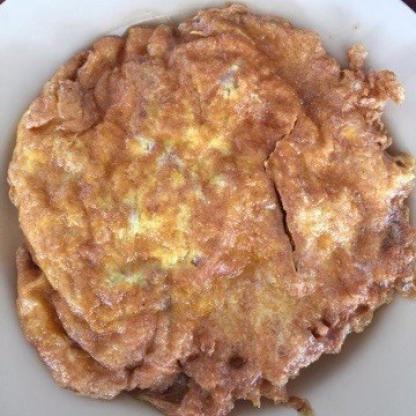Omelette: (0, 13, 414, 409)
